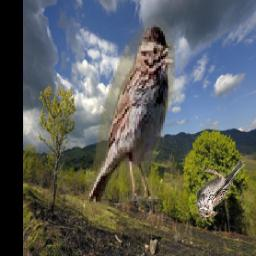Sparrow: (86, 18, 177, 216), (197, 161, 246, 219)
